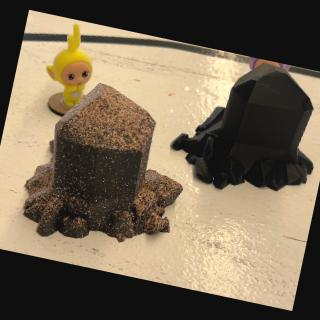teletubby: (46, 23, 92, 107), (248, 56, 289, 70)
